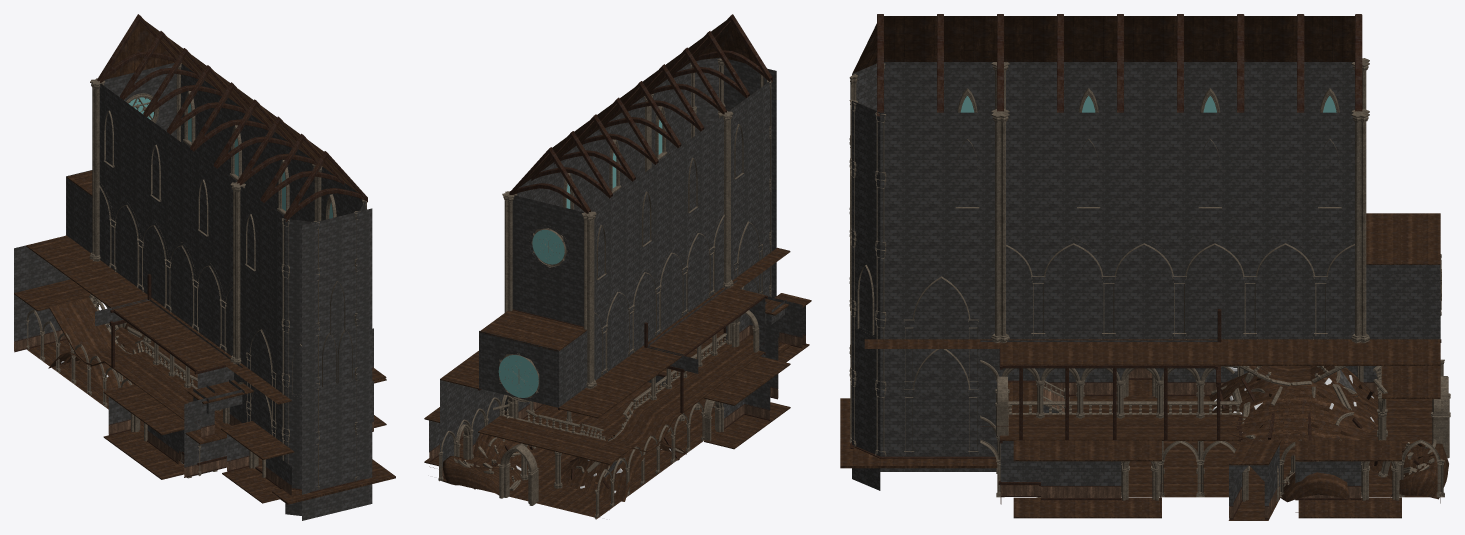
Rendered from CathedralHall.fbx.
3 views of the same model, side by side, from view 1: azimuth 30°, elevation 25°; view 2: azimuth 150°, elevation 25°; view 3: azimuth 270°, elevation 25° (orthographic). The views are drawn at different scales.
Visible parts, largest first — view 1: NewInteriorHall; view 2: NewInteriorHall; view 3: NewInteriorHall.
Boxes of the visible parts, left/top/right/bottom form: NewInteriorHall: left=14, top=14, right=395, bottom=520; NewInteriorHall: left=424, top=14, right=811, bottom=519; NewInteriorHall: left=840, top=14, right=1450, bottom=520.
Size of the model in its own units: 37.73 by 54.84 by 67.1.
